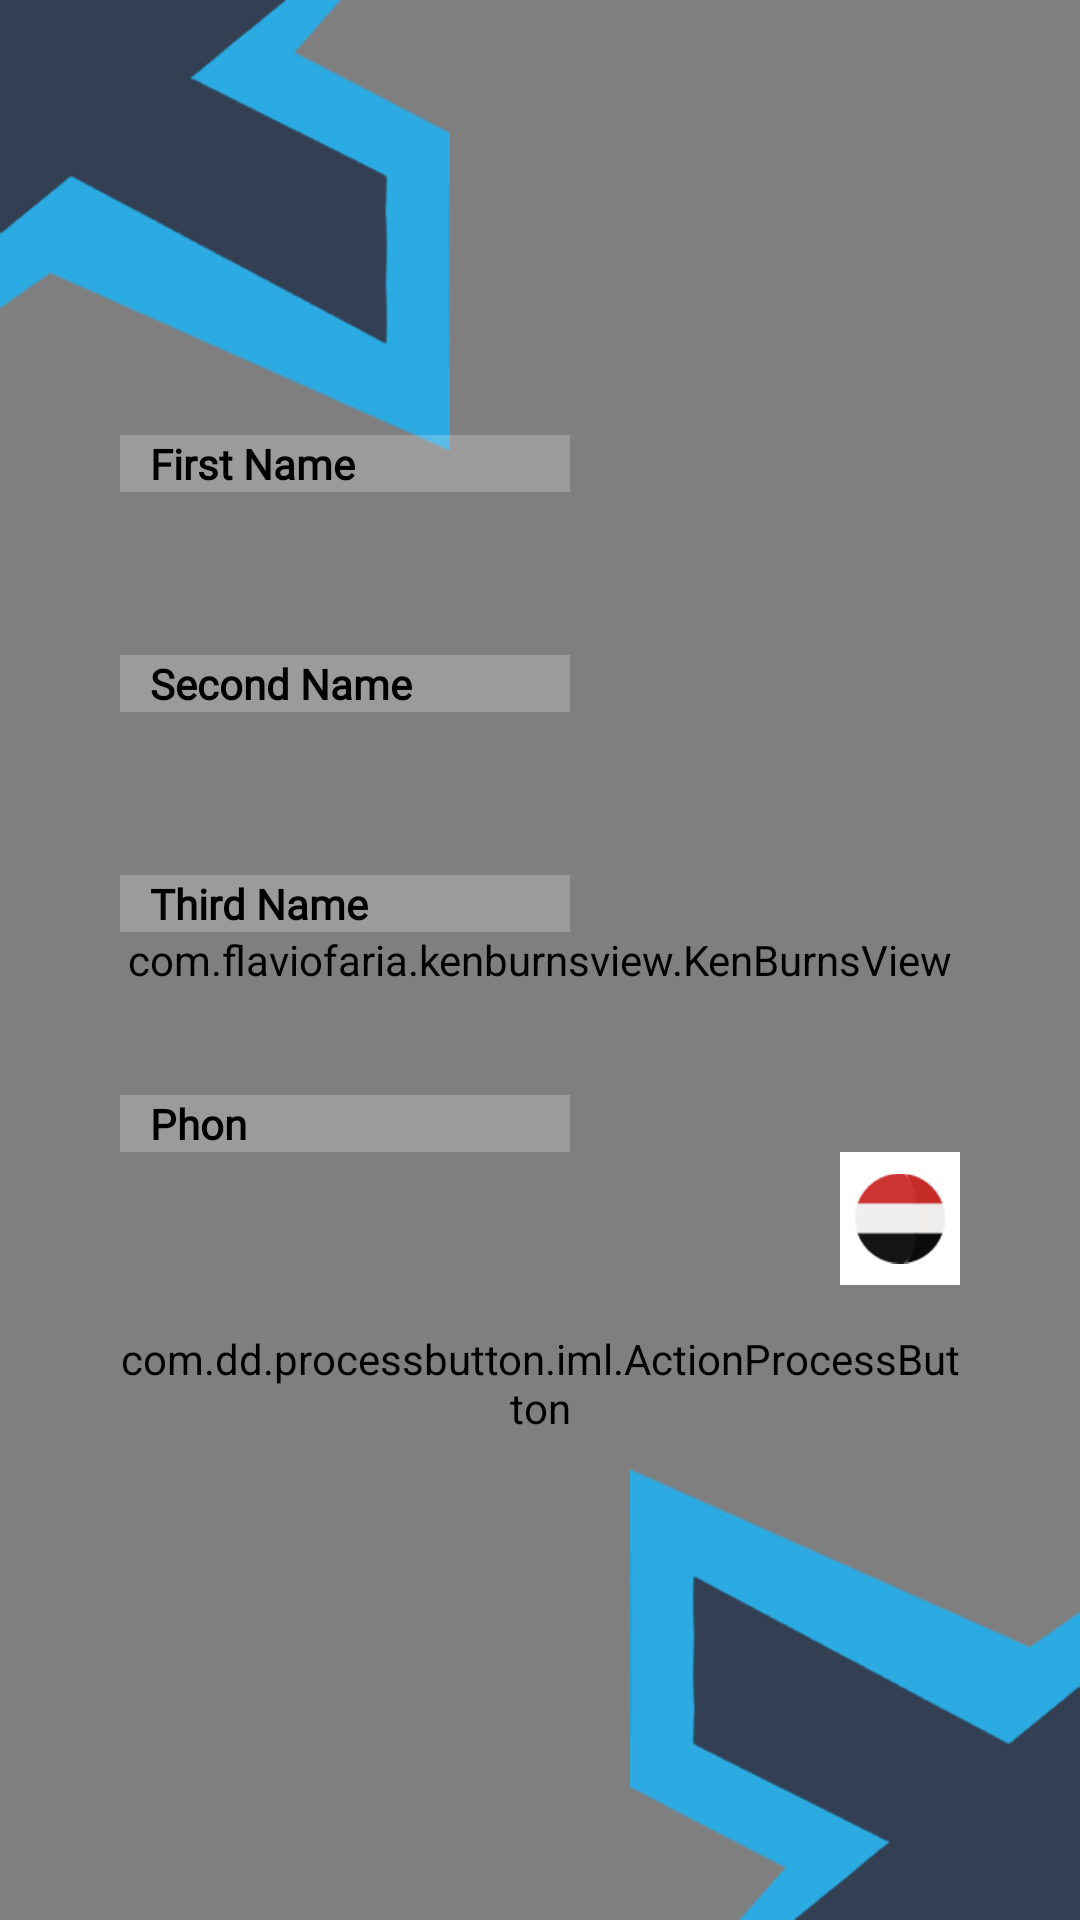

Named icons in this screenshot (1080x1920) and their bounding boxes, (x1, y1, x2, y2):
yemen: (840, 1152, 960, 1285)
